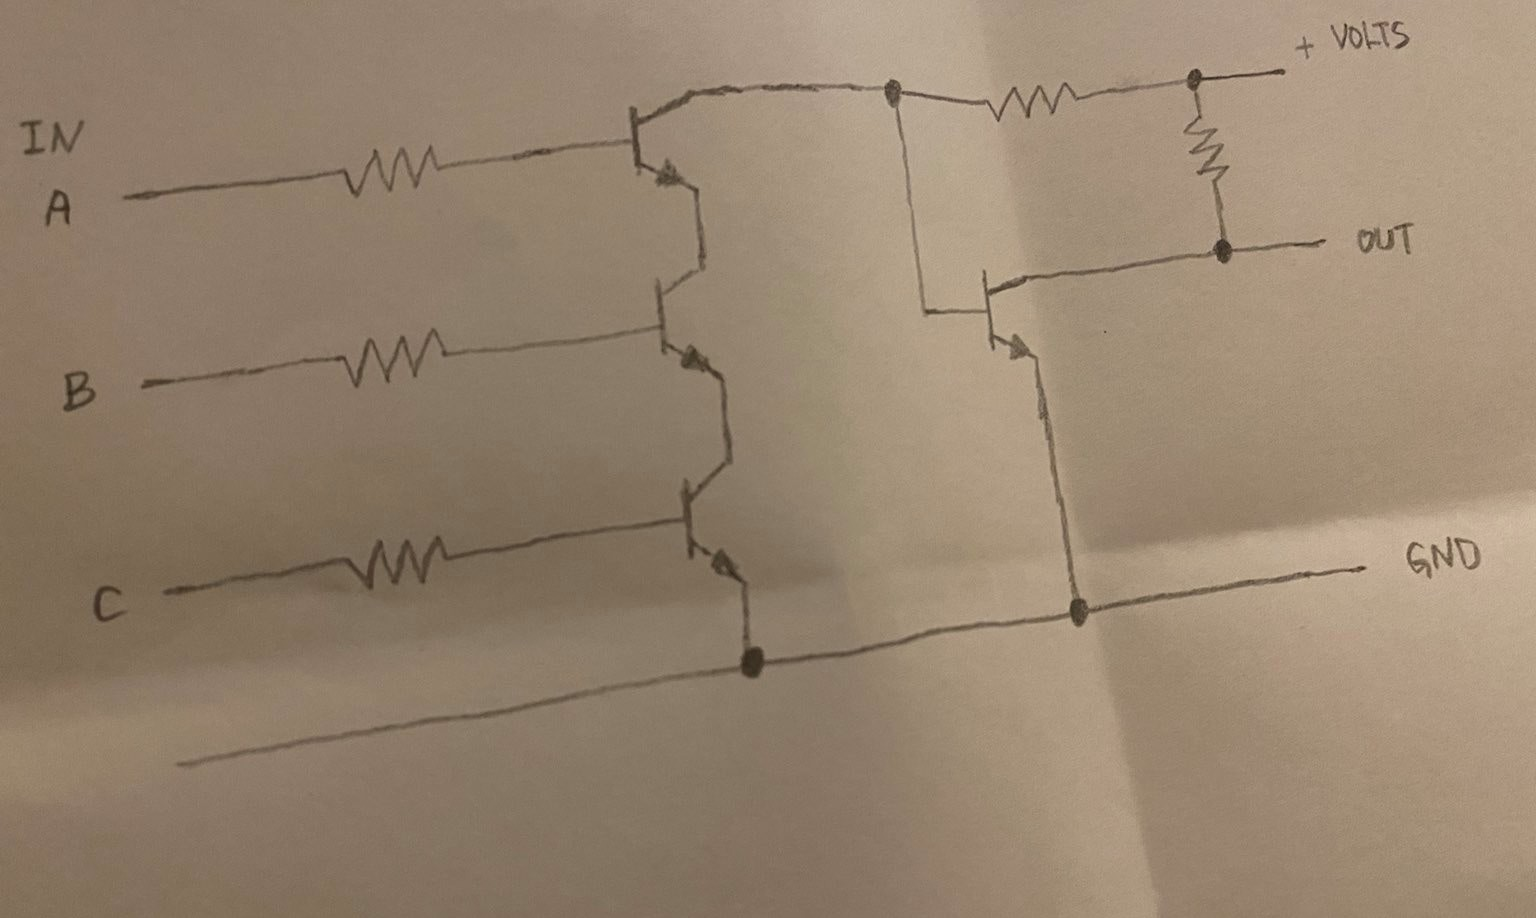junction: (720, 628, 781, 688), (1198, 220, 1251, 278), (870, 67, 919, 123), (1058, 581, 1102, 639), (1177, 56, 1224, 99)
resistor: (331, 521, 465, 603), (331, 322, 460, 392), (332, 138, 452, 202), (973, 67, 1087, 130), (1177, 104, 1249, 192)
terminal: (164, 752, 194, 780), (1310, 232, 1337, 254), (135, 374, 157, 395), (156, 581, 177, 602), (1272, 62, 1293, 82), (1354, 558, 1377, 577), (118, 188, 135, 205)
text: (1398, 518, 1487, 588), (12, 109, 94, 158), (1350, 210, 1422, 263), (1328, 17, 1415, 52), (87, 574, 135, 629), (56, 358, 101, 417), (37, 181, 83, 234), (1292, 27, 1323, 67)
transistor: (660, 442, 775, 600), (613, 73, 741, 204), (630, 249, 747, 392), (965, 256, 1076, 378)
